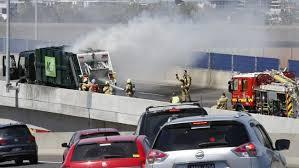smoke: (70, 3, 289, 87)
